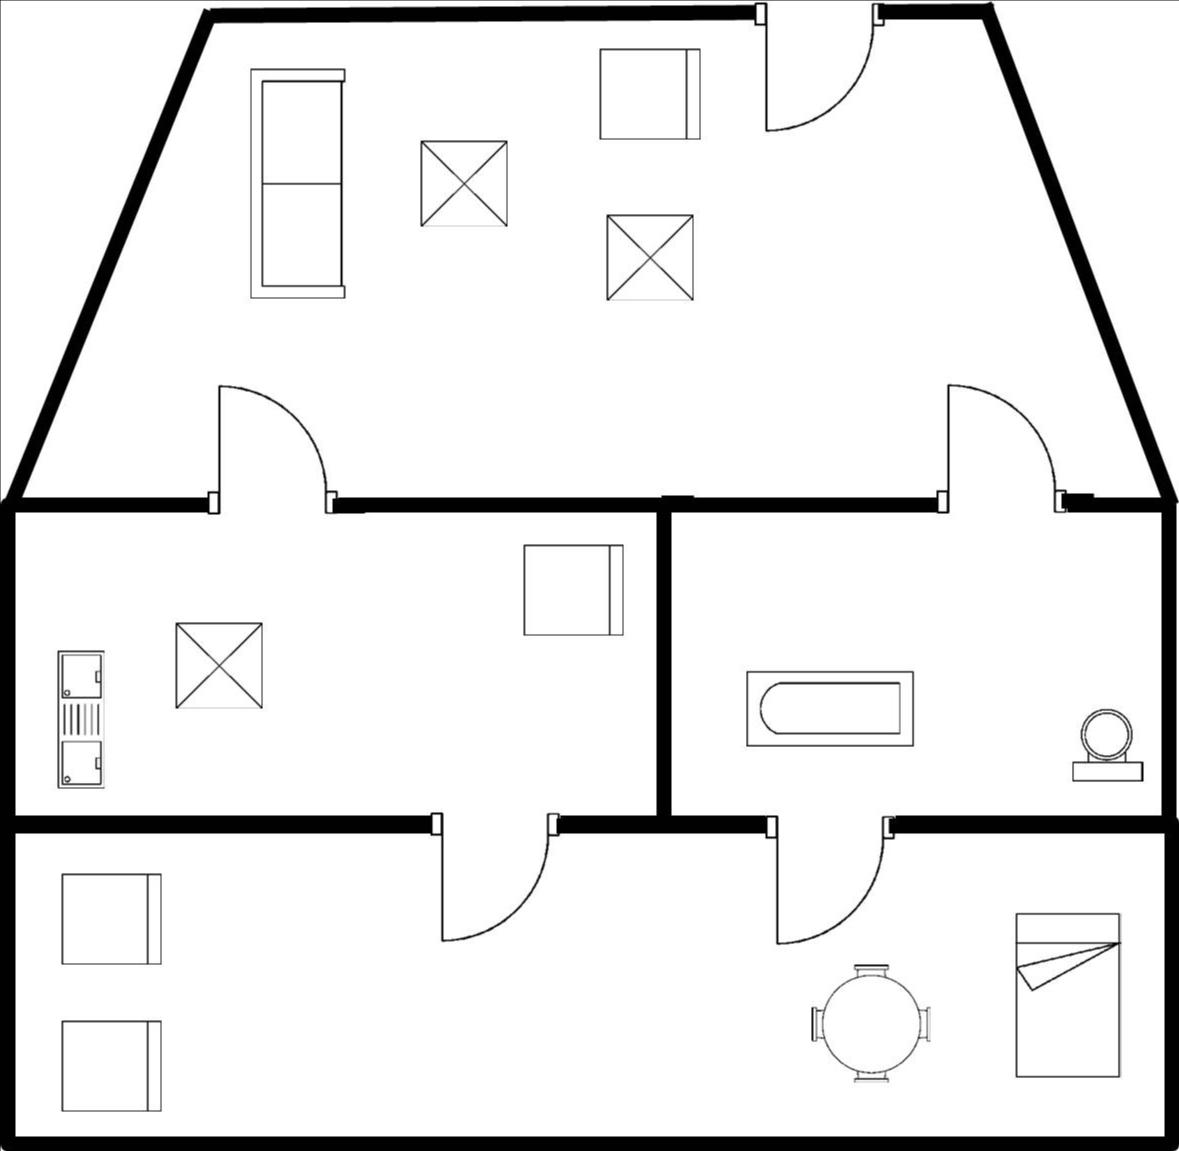sink: (46, 637, 116, 797)
